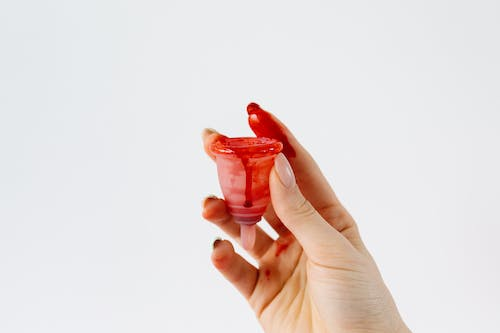blood: (201, 101, 298, 283), (210, 135, 285, 227)
